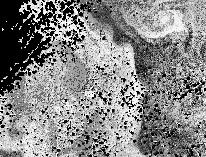CE: (150, 8, 181, 35)
